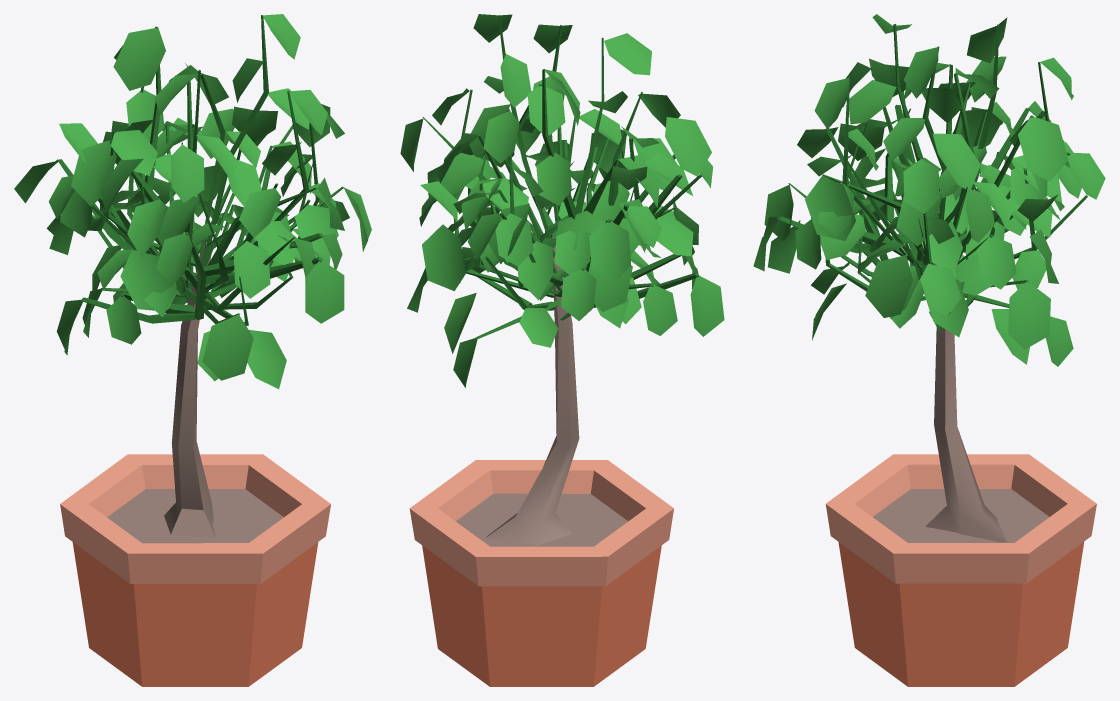
The model's file is Plants_M14.fbx.
The picture shows the model from 3 angles, left to right: view 1: azimuth 30°, elevation 25°; view 2: azimuth 150°, elevation 25°; view 3: azimuth 270°, elevation 25°; orthographic projection. The views are drawn at different scales.
Parts seen in each view (by area): view 1: Plants_M14; view 2: Plants_M14; view 3: Plants_M14.
Part boxes in pixels (bbox=[...]): Plants_M14: bbox=[14, 14, 371, 686]; Plants_M14: bbox=[400, 14, 724, 686]; Plants_M14: bbox=[753, 14, 1105, 686].
Size of the model in its own units: 0.2395 by 0.4703 by 0.239.
1 material, 1 textured.
